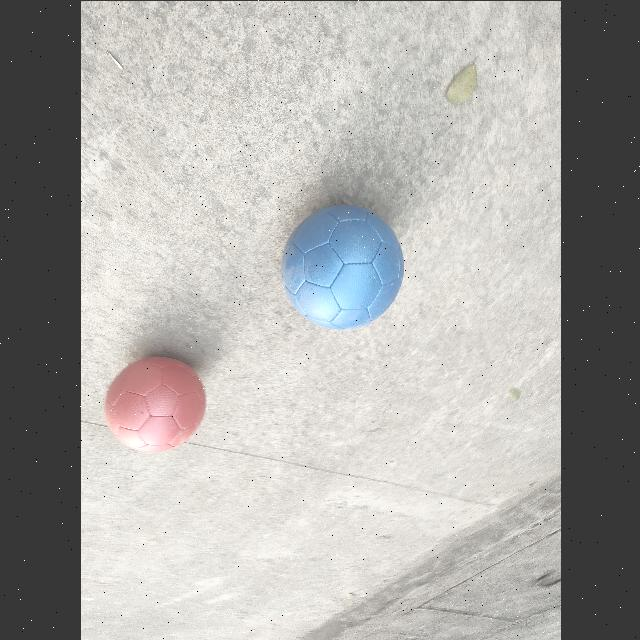B: (280, 202, 404, 328)
R: (103, 353, 205, 451)
